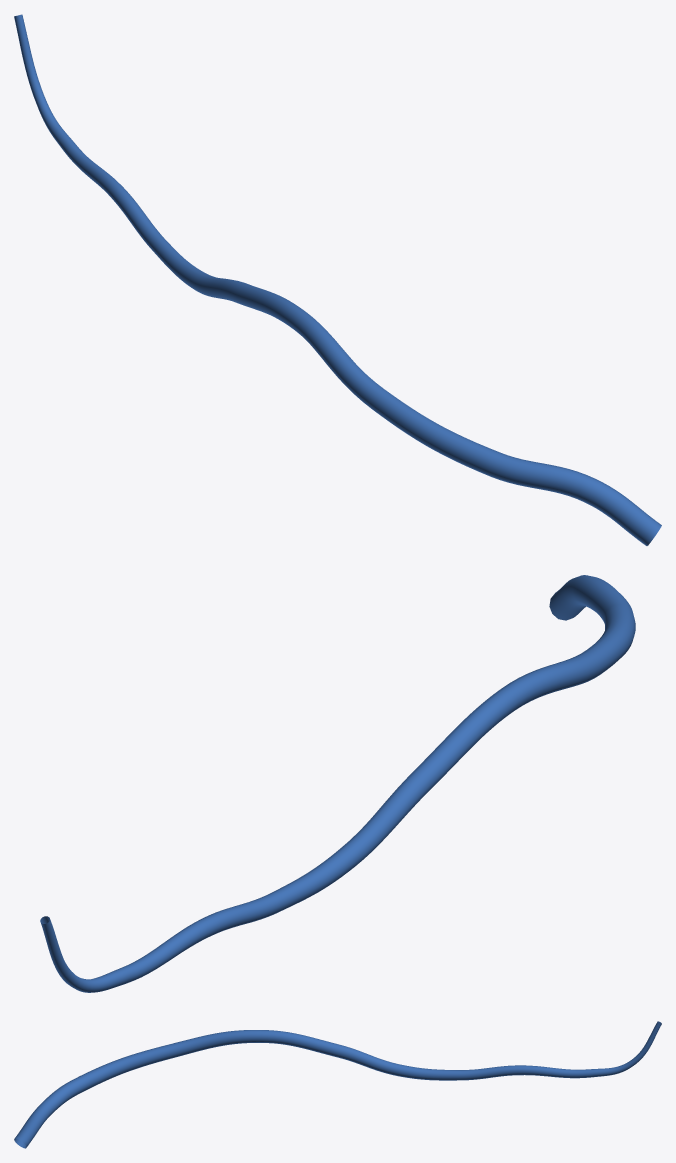
The picture shows the model from 3 angles, top to bottom: view 1: azimuth 30°, elevation 25°; view 2: azimuth 150°, elevation 25°; view 3: azimuth 270°, elevation 25°; orthographic projection. The views are drawn at different scales.
Visible parts, largest first — view 1: 右侧股深静脉; view 2: 右侧股深静脉; view 3: 右侧股深静脉.
Part boxes in pixels (left/top/right/bottom): 右侧股深静脉: left=14, top=14, right=661, bottom=545; 右侧股深静脉: left=40, top=575, right=635, bottom=992; 右侧股深静脉: left=14, top=1021, right=661, bottom=1148.
Size of the model in its own units: 0.0684 by 0.0616 by 0.3685.
